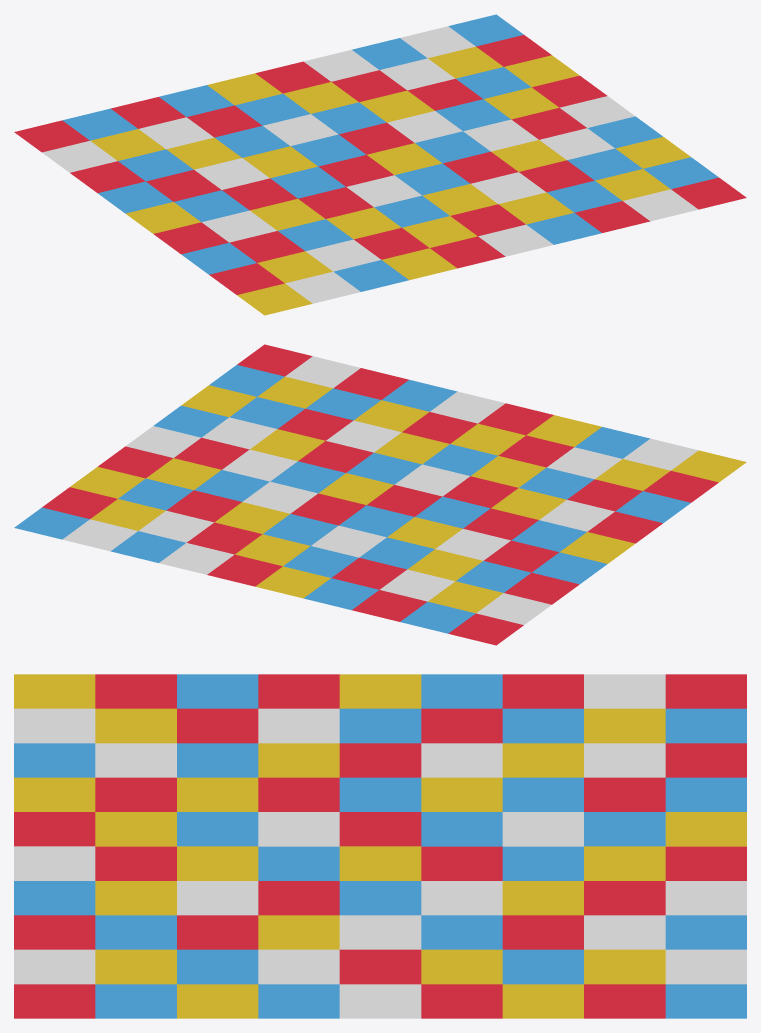
The model's file is floor_mesh.fbx.
3 renders of one model, top to bottom at view 1: azimuth 30°, elevation 25°; view 2: azimuth 150°, elevation 25°; view 3: azimuth 270°, elevation 25°, orthographic. The views are drawn at different scales.
Visible parts, largest first — view 1: floor_mesh; view 2: floor_mesh; view 3: floor_mesh.
Part boxes in pixels (x1,y1,x2,y2): floor_mesh: (14, 14, 746, 315); floor_mesh: (14, 344, 746, 645); floor_mesh: (14, 674, 746, 1018).
Bounding box in the file's own units: 11.99 × 0 × 10.79.
